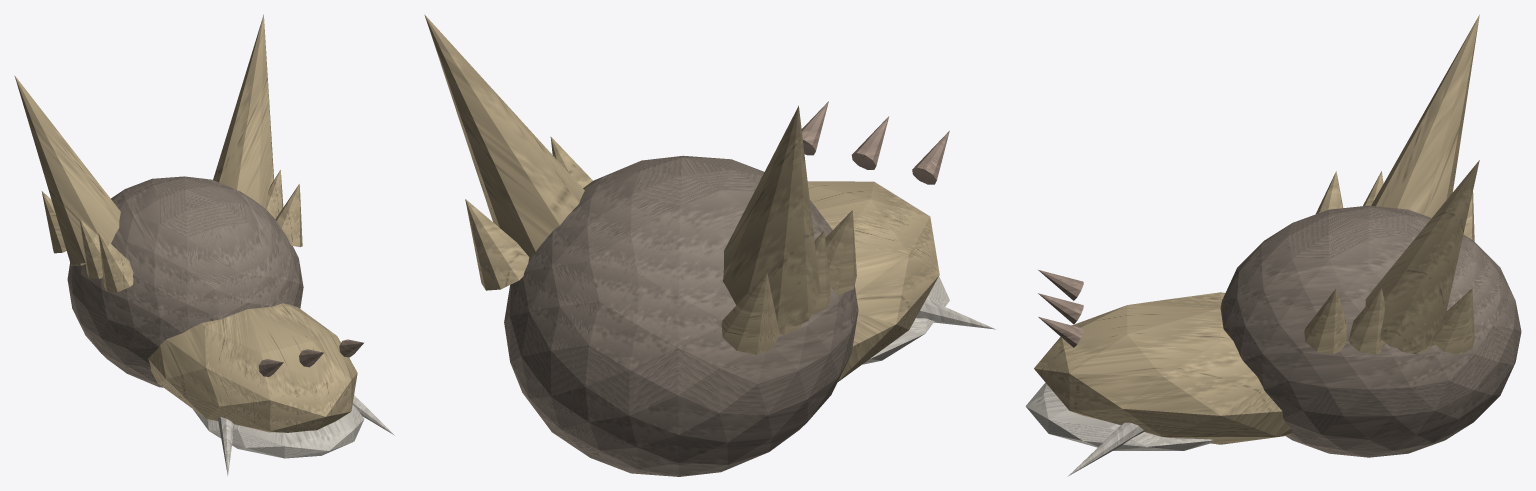
The model's file is dragon_head.glb.
3 views of the same model, side by side, from view 1: azimuth 30°, elevation 25°; view 2: azimuth 150°, elevation 25°; view 3: azimuth 270°, elevation 25° (orthographic). The views are drawn at different scales.
Visible parts, largest first — view 1: dragonplate, dragon, bone, bronze; view 2: dragon, dragonplate, bronze, bone; view 3: dragonplate, dragon, bone, bronze.
Boxes of the visible parts, x1,y1,x2,y2 form: dragonplate: (14, 14, 357, 432); dragon: (67, 176, 303, 387); bone: (193, 395, 394, 475); bronze: (258, 339, 363, 376); dragon: (504, 155, 858, 476); dragonplate: (424, 14, 939, 381); bronze: (801, 101, 949, 184); bone: (862, 276, 995, 364); dragonplate: (1034, 14, 1479, 444); dragon: (1220, 205, 1521, 457); bone: (1025, 382, 1213, 476); bronze: (1038, 270, 1083, 347).
Bounding box in the file's own units: 3.72 × 4.26 × 5.36.
Materials: 5 (5 with a texture image).
